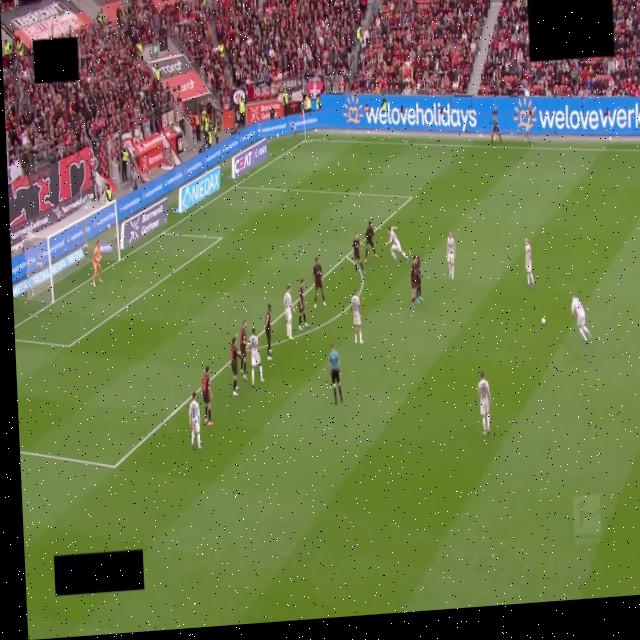ball: (541, 318, 545, 325)
player: (571, 295, 591, 343), (478, 372, 492, 436), (200, 365, 214, 427), (384, 227, 408, 263), (188, 391, 202, 451), (250, 328, 264, 385), (313, 257, 326, 308), (351, 289, 362, 343), (283, 286, 294, 339), (364, 221, 378, 262), (298, 279, 309, 330), (409, 254, 419, 307), (352, 232, 364, 275), (446, 232, 456, 279), (240, 319, 247, 380), (231, 336, 238, 396), (93, 241, 102, 287), (525, 238, 533, 288), (265, 304, 272, 360), (417, 256, 422, 303)
referee: (329, 344, 342, 405)
